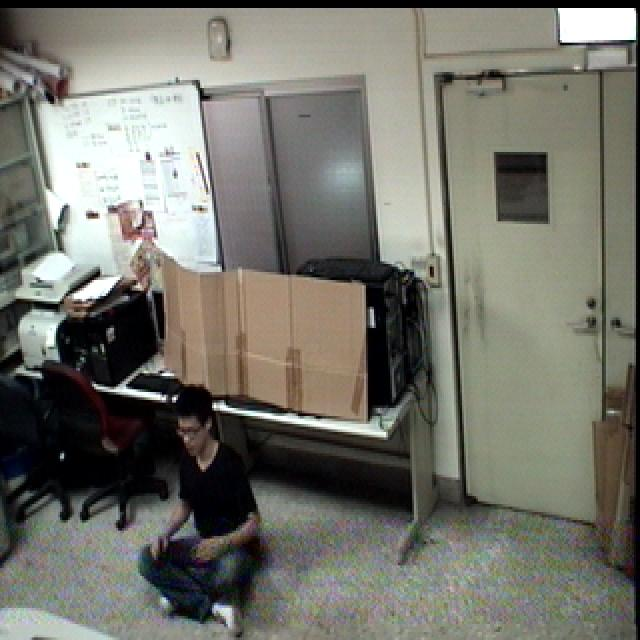sit: (127, 378, 276, 640)
